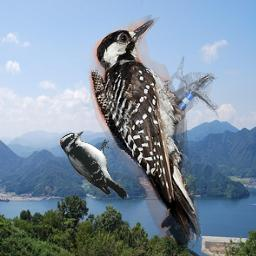Woodpecker: (80, 11, 233, 249), (60, 131, 127, 199)
